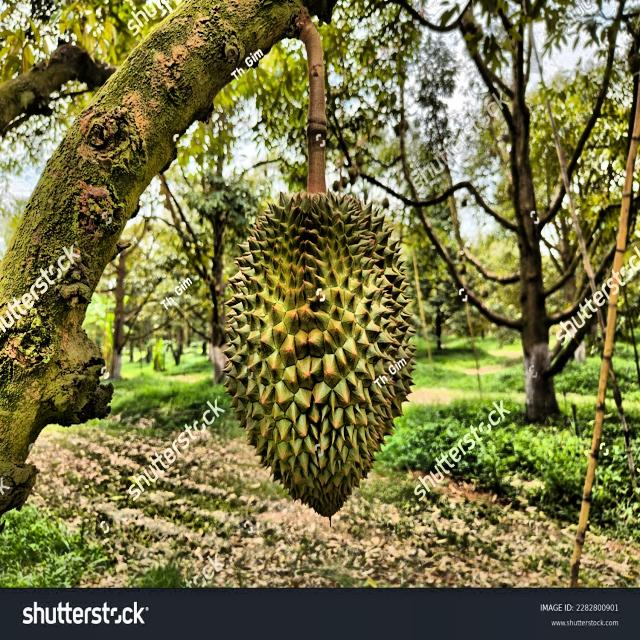arvore: (496, 36, 572, 432), (204, 166, 230, 402), (107, 231, 128, 389)
